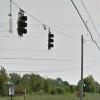Traffic light: (14, 6, 57, 50)
